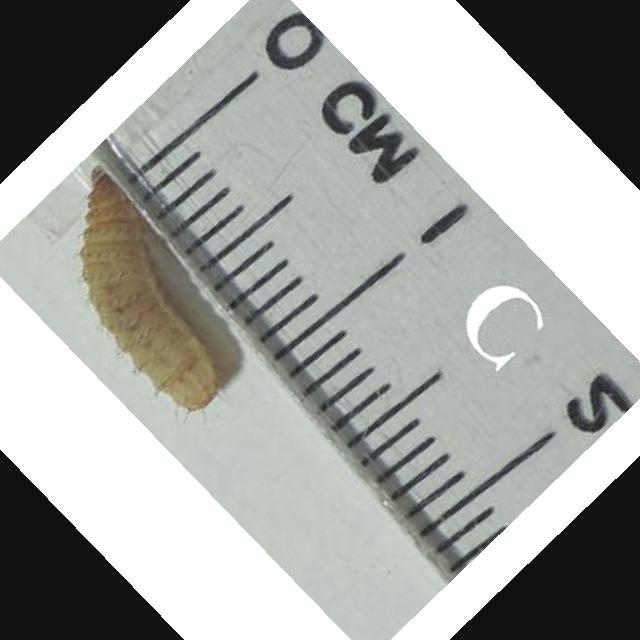Maggot: (73, 164, 216, 409)
